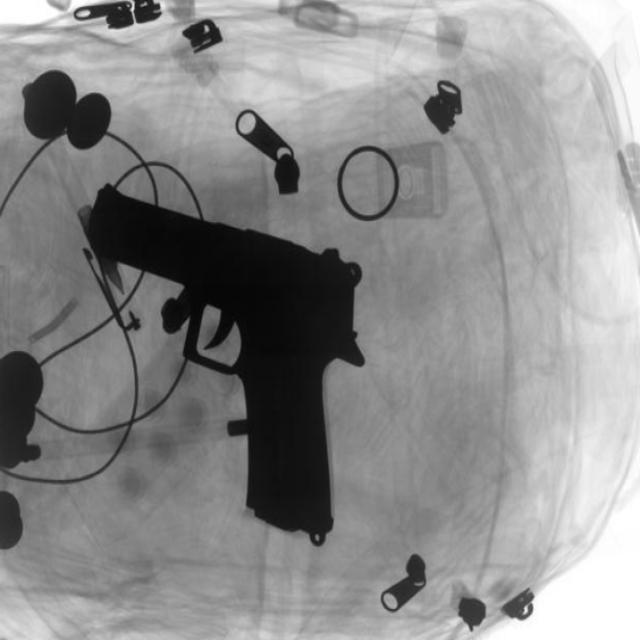GUN: (95, 166, 371, 532)
